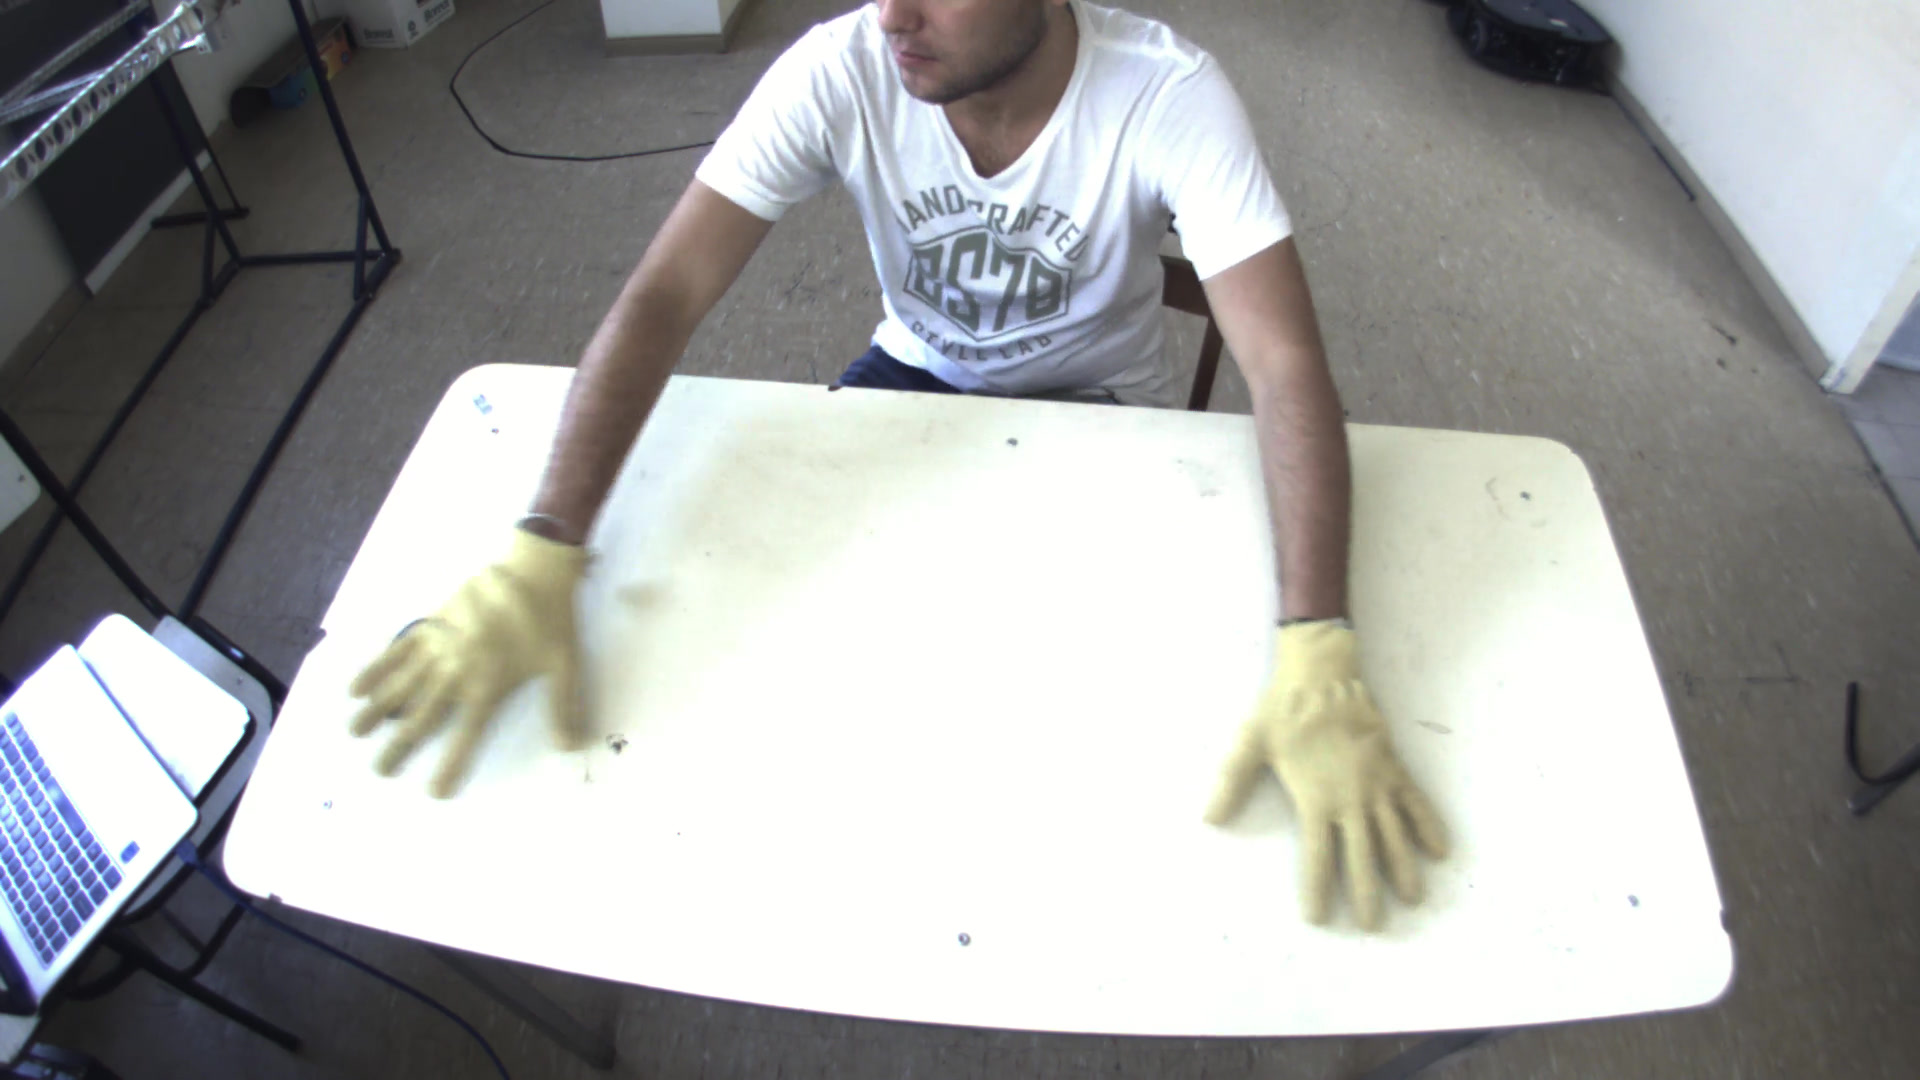hand: (1199, 615, 1474, 953), (328, 520, 592, 807)
